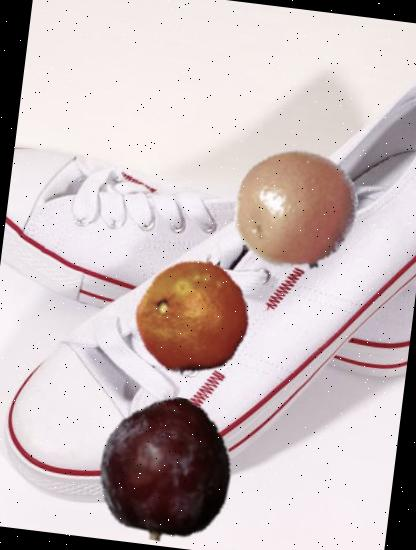Clementine: (124, 252, 258, 386)
Plum: (84, 388, 246, 550)
Tangelo: (225, 140, 367, 282)
